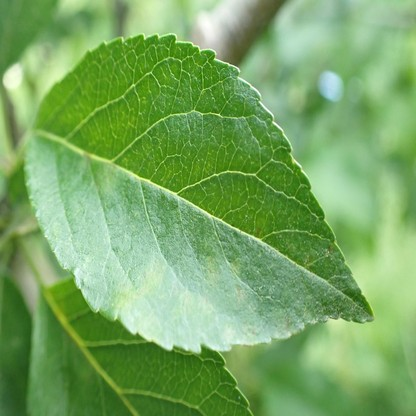scab: (173, 292, 213, 322), (136, 262, 164, 295), (112, 284, 133, 309), (101, 163, 117, 192), (204, 253, 218, 285), (233, 282, 248, 307), (77, 153, 91, 174), (244, 326, 258, 343), (281, 318, 292, 335), (230, 258, 240, 272), (225, 326, 233, 343)
